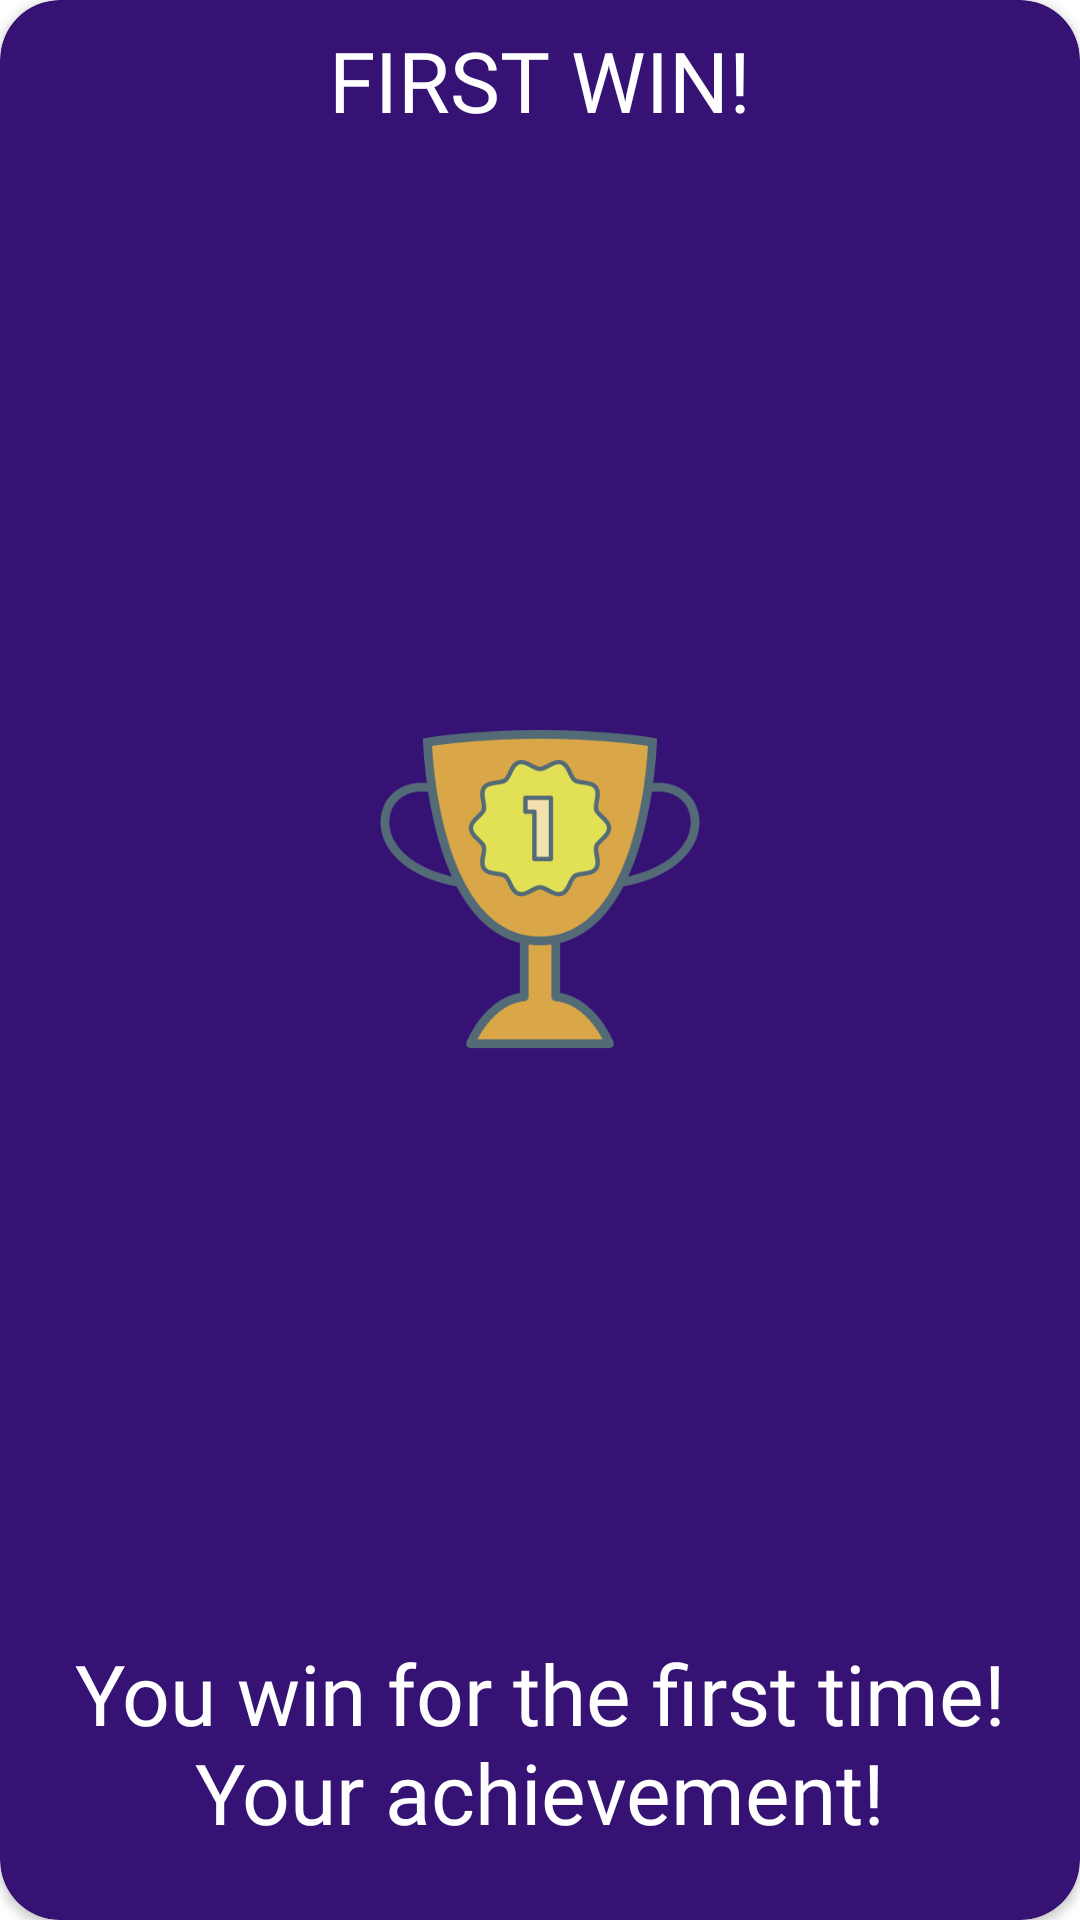

Icon click points for this 1080 x 1920 phone screenshot, format (x,y):
trophy: (540,889)
